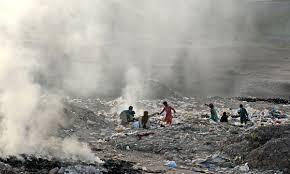smoke: (0, 0, 290, 164)
